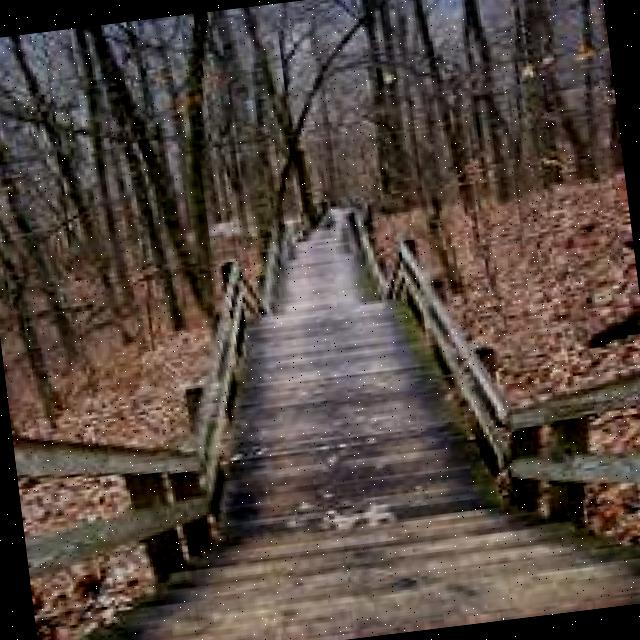stairs: (33, 137, 640, 640)
